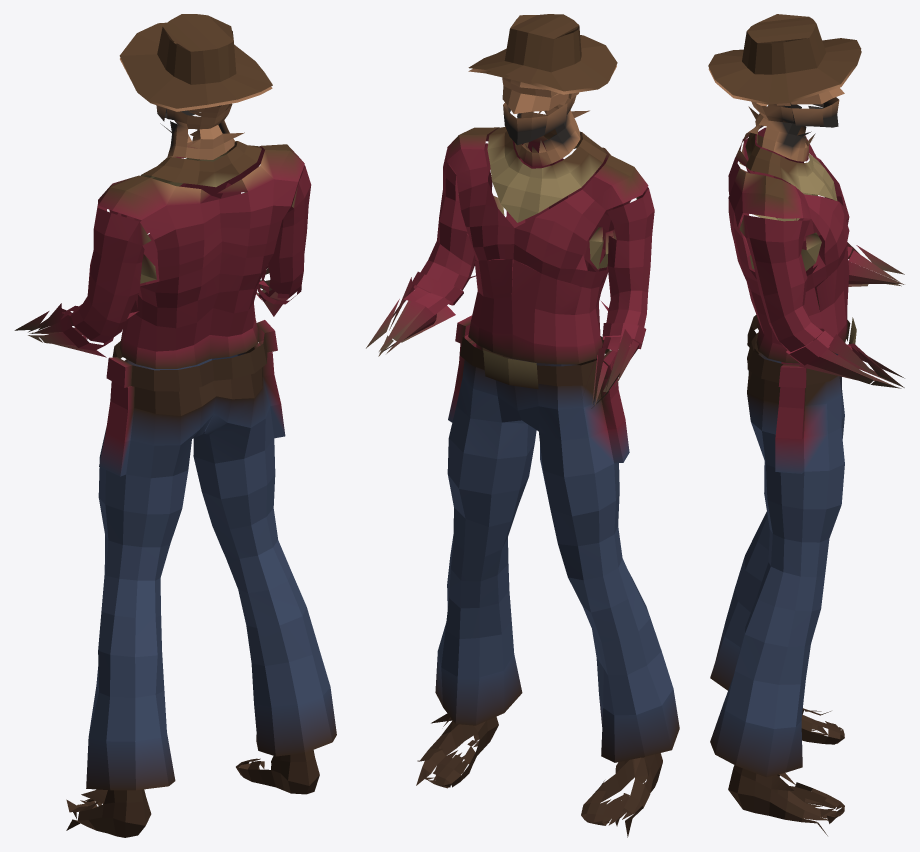
The model's file is man_5_w2.fbx.
3 renders of one model, left to right at view 1: azimuth 30°, elevation 25°; view 2: azimuth 150°, elevation 25°; view 3: azimuth 270°, elevation 25°, orthographic. The views are drawn at different scales.
Parts seen in each view (by area): view 1: cowboy; view 2: cowboy; view 3: cowboy.
Boxes of the visible parts, box(x1,y1,x2,y2) form: cowboy: box(14, 14, 336, 837); cowboy: box(366, 14, 679, 837); cowboy: box(708, 14, 904, 835).
Size of the model in its own units: 0.328 by 1.03 by 0.2409.
